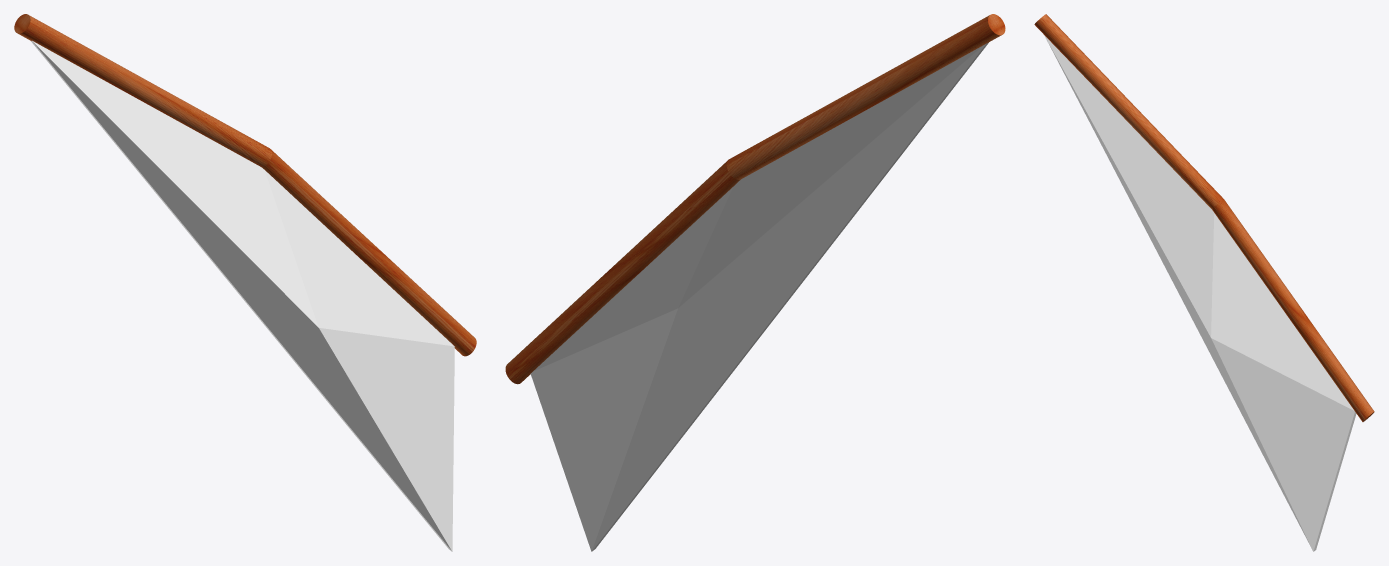
Rendered from sail3.obj.
The picture shows the model from 3 angles, left to right: view 1: azimuth 30°, elevation 25°; view 2: azimuth 150°, elevation 25°; view 3: azimuth 330°, elevation 25°; orthographic projection. The views are drawn at different scales.
Parts seen in each view (by area): view 1: Cloth3_Plane.002, Sail3_Cylinder.002; view 2: Cloth3_Plane.002, Sail3_Cylinder.002; view 3: Cloth3_Plane.002, Sail3_Cylinder.002.
Part boxes in pixels (x1,y1,x2,y2): Cloth3_Plane.002: (31,41,454,551); Sail3_Cylinder.002: (14,14,476,356); Cloth3_Plane.002: (530,42,988,551); Sail3_Cylinder.002: (505,14,1005,384); Cloth3_Plane.002: (1044,35,1356,551); Sail3_Cylinder.002: (1034,14,1374,421).
Bounding box in the file's own units: 1.49 × 1.9 × 0.2117.
Materials: 1 (1 with a texture image).
